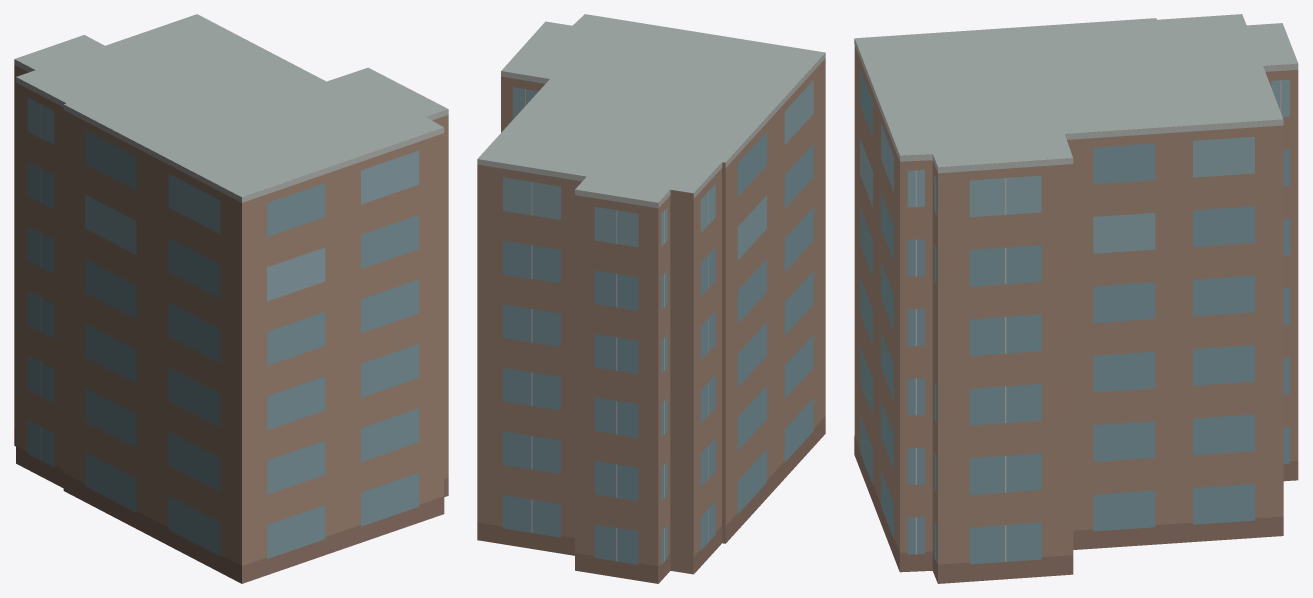
The model's file is survey-upis-33016684.glb.
The picture shows the model from 3 angles, left to right: view 1: azimuth 30°, elevation 25°; view 2: azimuth 150°, elevation 25°; view 3: azimuth 270°, elevation 25°; orthographic projection. The views are drawn at different scales.
Parts seen in each view (by area): view 1: survey-upis-33016684.tmp; view 2: survey-upis-33016684.tmp; view 3: survey-upis-33016684.tmp.
Boxes of the visible parts, left/top/right/bottom form: survey-upis-33016684.tmp: left=14, top=14, right=448, bottom=583; survey-upis-33016684.tmp: left=477, top=14, right=825, bottom=583; survey-upis-33016684.tmp: left=854, top=14, right=1298, bottom=583.
Size of the model in its own units: 13.27 by 16.8 by 16.24.
